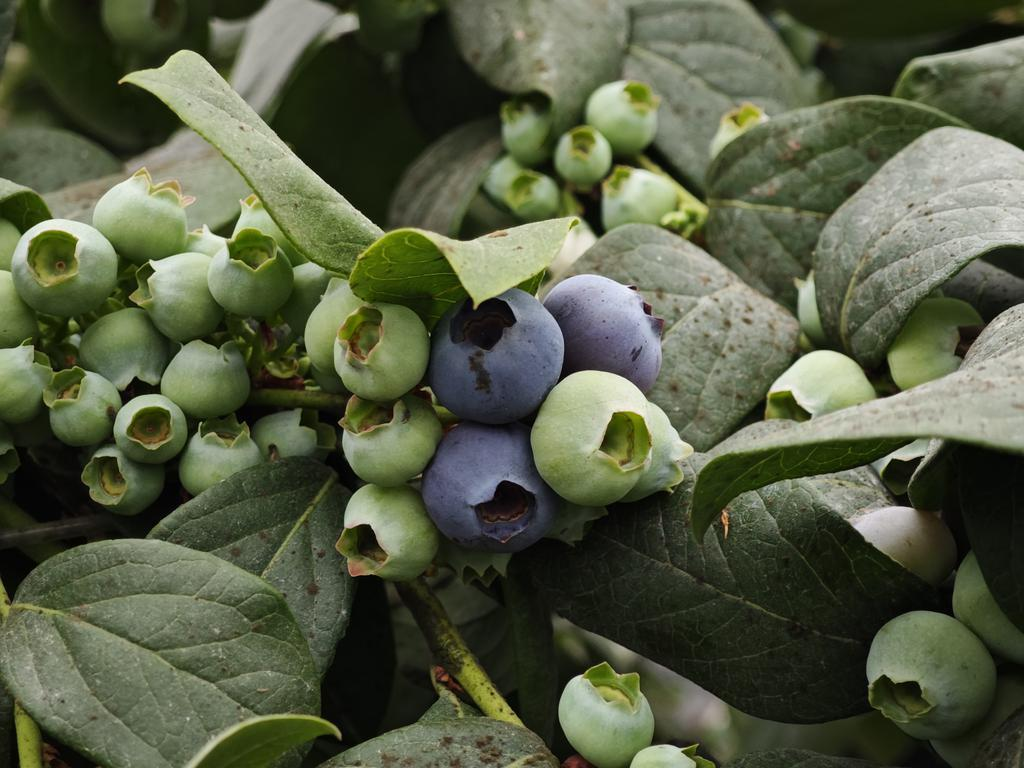RipeBlueBerry: (428, 286, 568, 425), (424, 426, 558, 557), (546, 274, 667, 386)
UnripeBlueBerry: (864, 604, 1001, 743), (530, 370, 661, 507), (10, 216, 119, 317)
